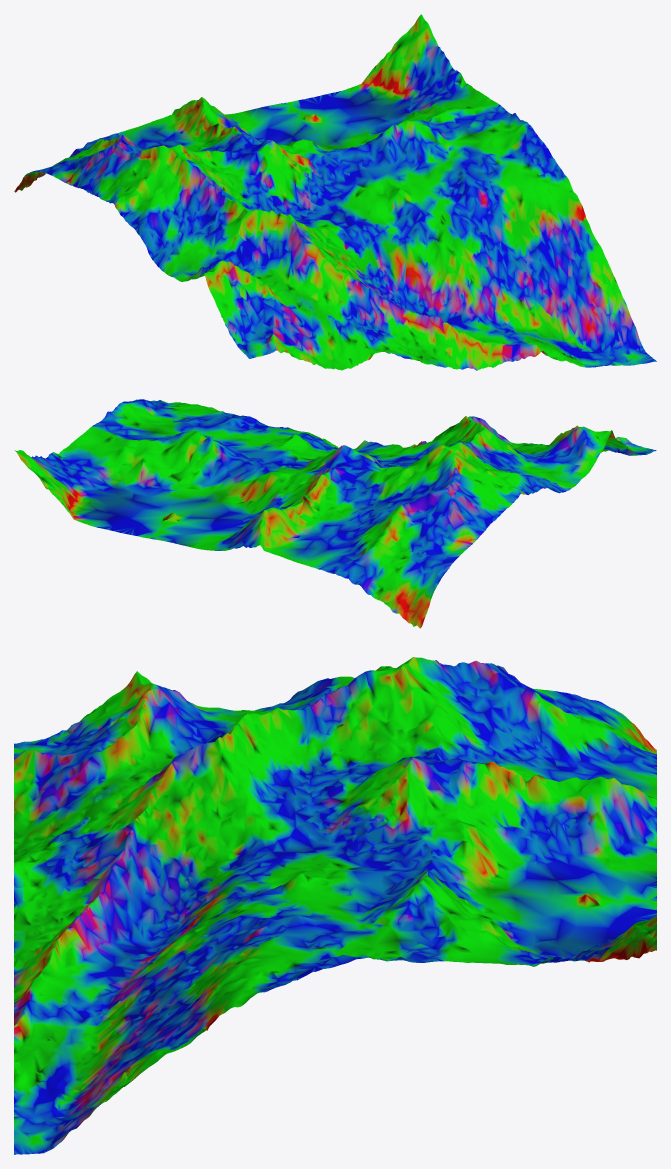
3 views of the same model, one above another, from view 1: azimuth 30°, elevation 25°; view 2: azimuth 150°, elevation 25°; view 3: azimuth 270°, elevation 25° (orthographic). The views are drawn at different scales.
Visible parts, largest first — view 1: E_5_6; view 2: E_5_6; view 3: E_5_6.
Part boxes in pixels (bbox=[...]): E_5_6: bbox=[14, 14, 656, 370]; E_5_6: bbox=[14, 399, 656, 628]; E_5_6: bbox=[14, 657, 656, 1154].
Size of the model in its own units: 819 by 374 by 819.
